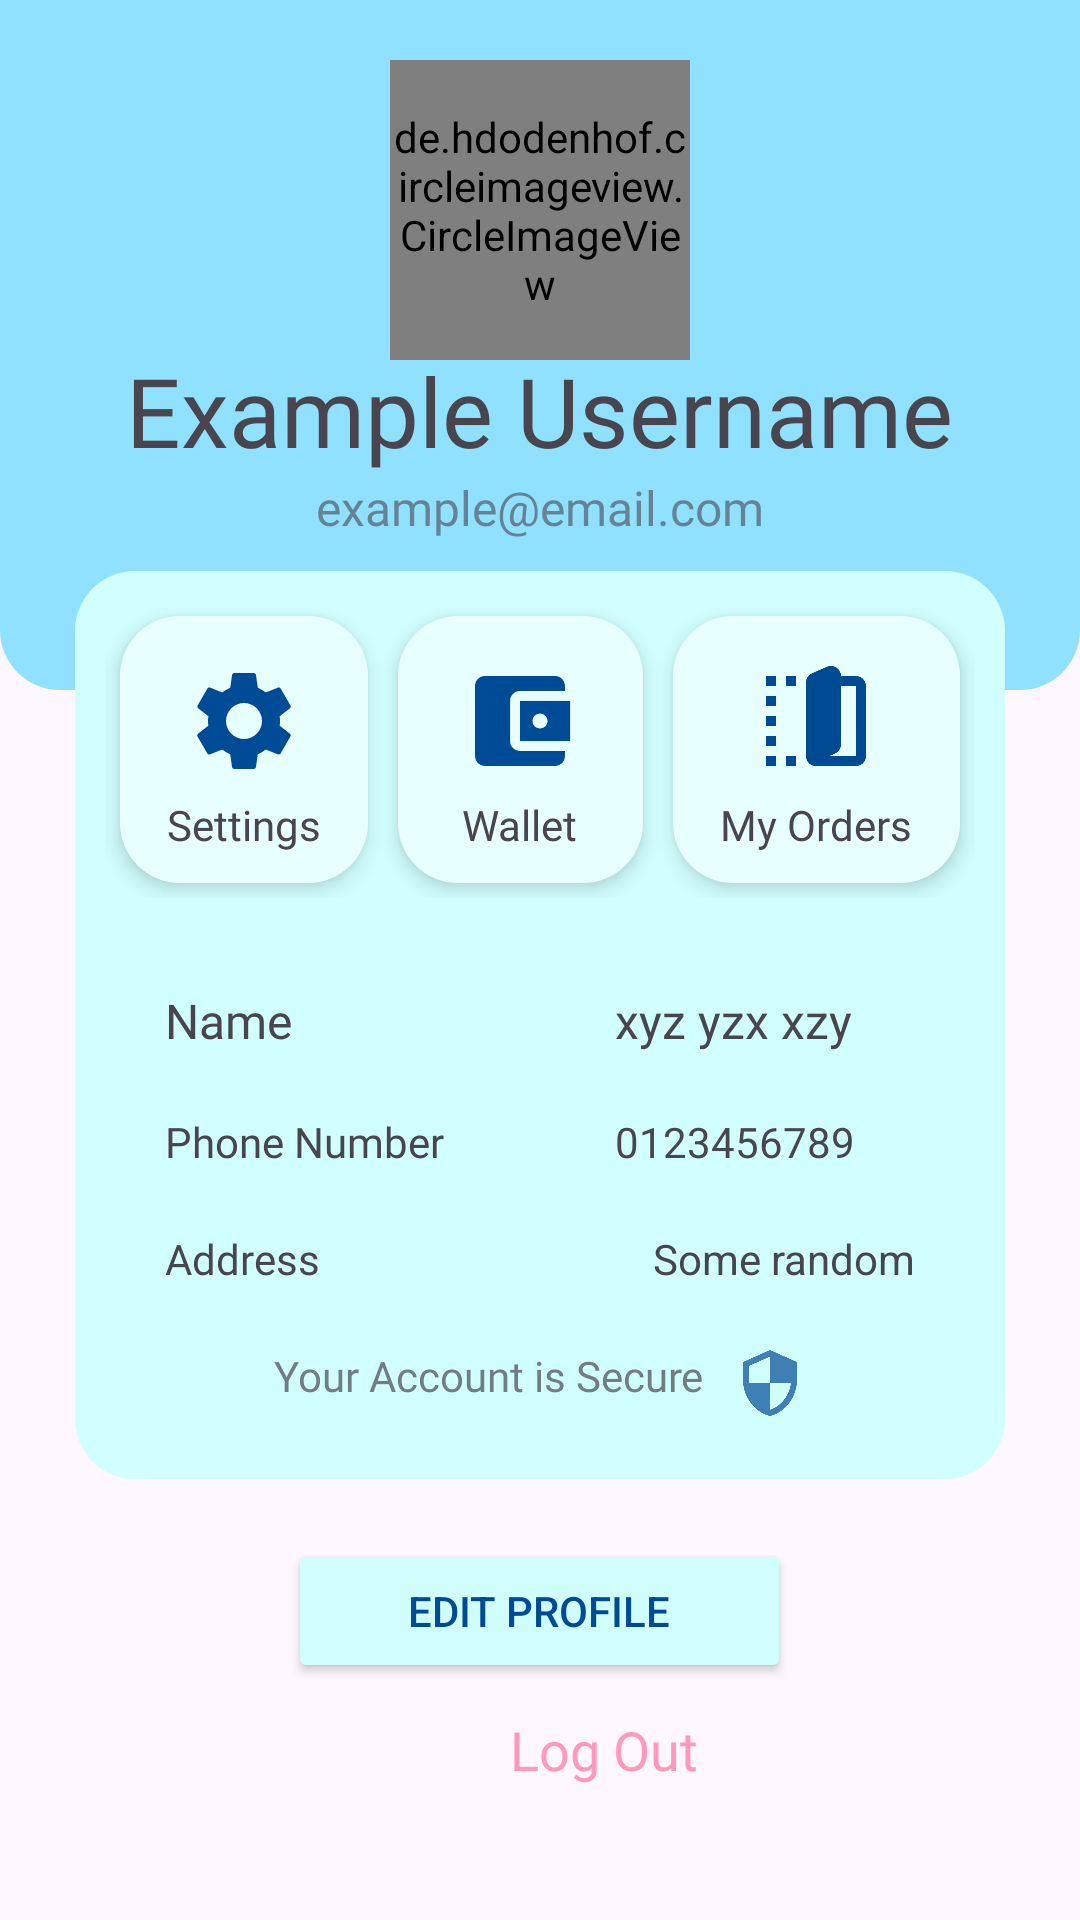

Icon bounding boxes for this 1080px×1920px phone screenshot, format (x1, y1, x2, y2):
devices fold: (766, 666, 866, 766)
